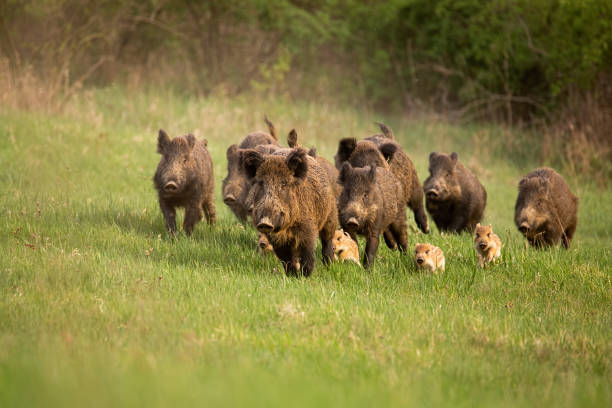pig: (253, 145, 333, 275), (349, 161, 417, 263), (143, 123, 211, 217)
